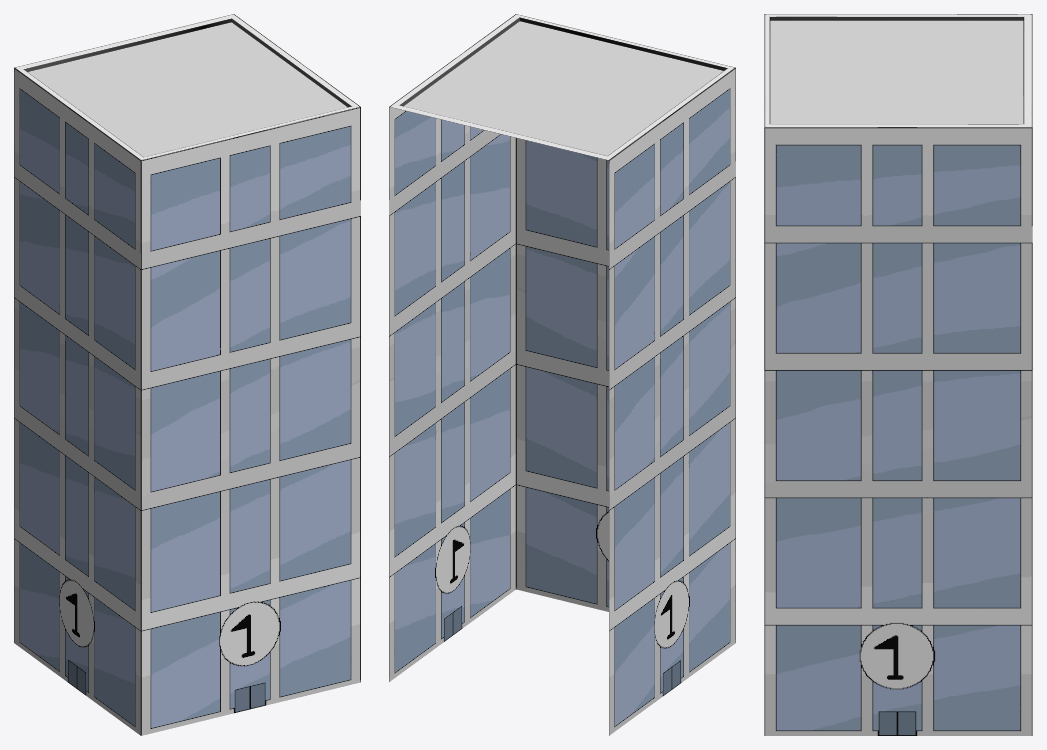
The model's file is BigBuilding.fbx.
The picture shows the model from 3 angles, left to right: view 1: azimuth 30°, elevation 25°; view 2: azimuth 150°, elevation 25°; view 3: azimuth 270°, elevation 25°; orthographic projection. The views are drawn at different scales.
Visible parts, largest first — view 1: Cube; view 2: Cube; view 3: Cube.
Boxes of the visible parts, left/top/right/bottom form: Cube: left=14, top=14, right=360, bottom=735; Cube: left=389, top=14, right=735, bottom=735; Cube: left=764, top=14, right=1032, bottom=735.
Size of the model in its own units: 400 by 1000 by 400.
